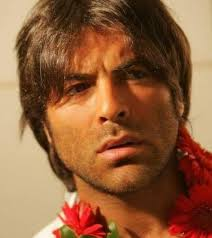middle_eastern_male: (36, 19, 179, 176)
